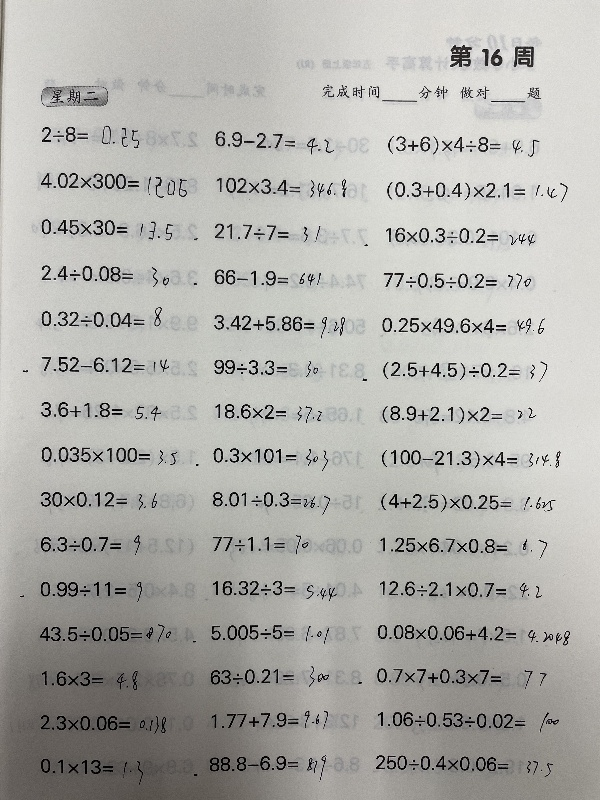equation: (368, 615, 577, 658), (371, 661, 558, 698), (378, 702, 565, 739), (367, 745, 554, 782), (385, 177, 573, 210), (374, 307, 562, 340), (376, 442, 564, 475), (374, 485, 562, 518), (34, 699, 171, 744), (37, 611, 173, 654), (206, 569, 342, 610), (205, 612, 341, 653), (202, 655, 338, 696), (202, 696, 338, 737), (202, 744, 338, 785), (375, 532, 550, 563), (32, 746, 155, 789), (36, 657, 149, 701), (33, 569, 156, 609), (376, 401, 539, 431), (378, 357, 551, 385), (36, 260, 173, 294), (36, 168, 191, 197), (382, 131, 541, 158), (374, 576, 544, 601), (213, 173, 350, 204), (209, 310, 348, 339), (380, 222, 537, 247), (36, 214, 175, 240), (36, 302, 165, 330), (36, 441, 179, 466), (379, 268, 534, 291), (208, 485, 333, 513), (210, 354, 322, 385), (208, 442, 331, 470), (210, 127, 337, 154), (36, 486, 160, 511), (37, 352, 171, 375), (37, 119, 143, 148), (36, 531, 149, 558), (36, 397, 163, 421), (210, 219, 323, 244), (208, 530, 312, 557), (210, 399, 324, 423), (209, 265, 323, 288)
